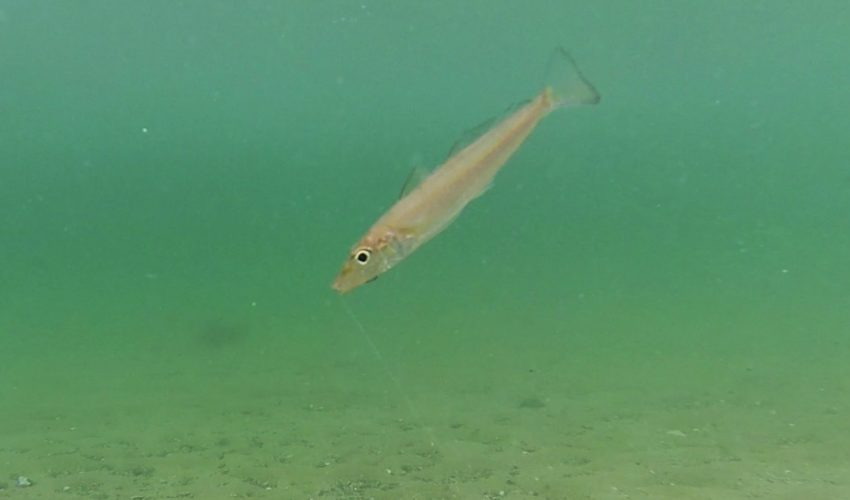kiss: (328, 48, 602, 307)
